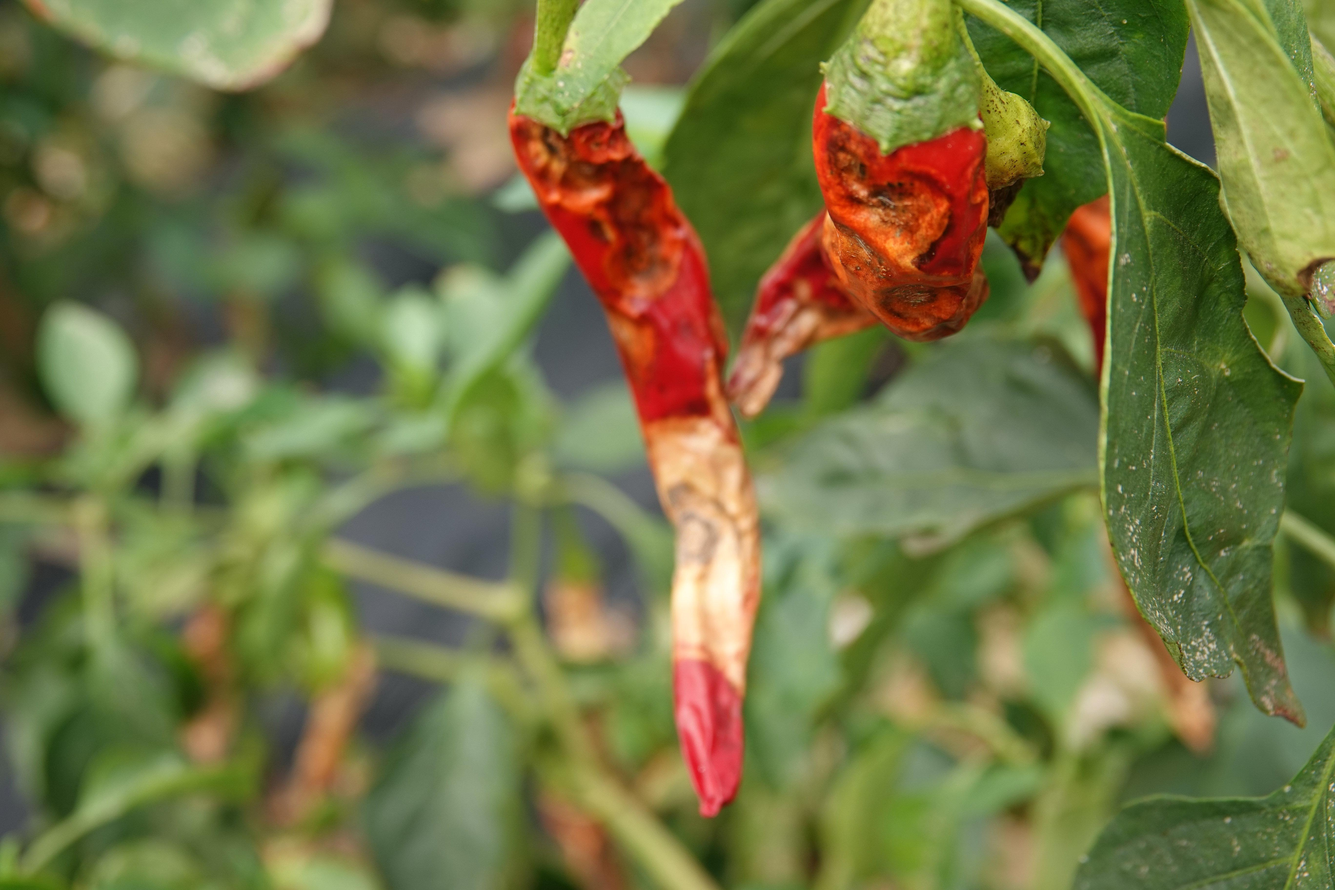Bercak Daun Serkospora: (1083, 86, 1304, 722)
Busuk Buah Antraknosa: (503, 5, 765, 819), (722, 1, 1051, 420)
